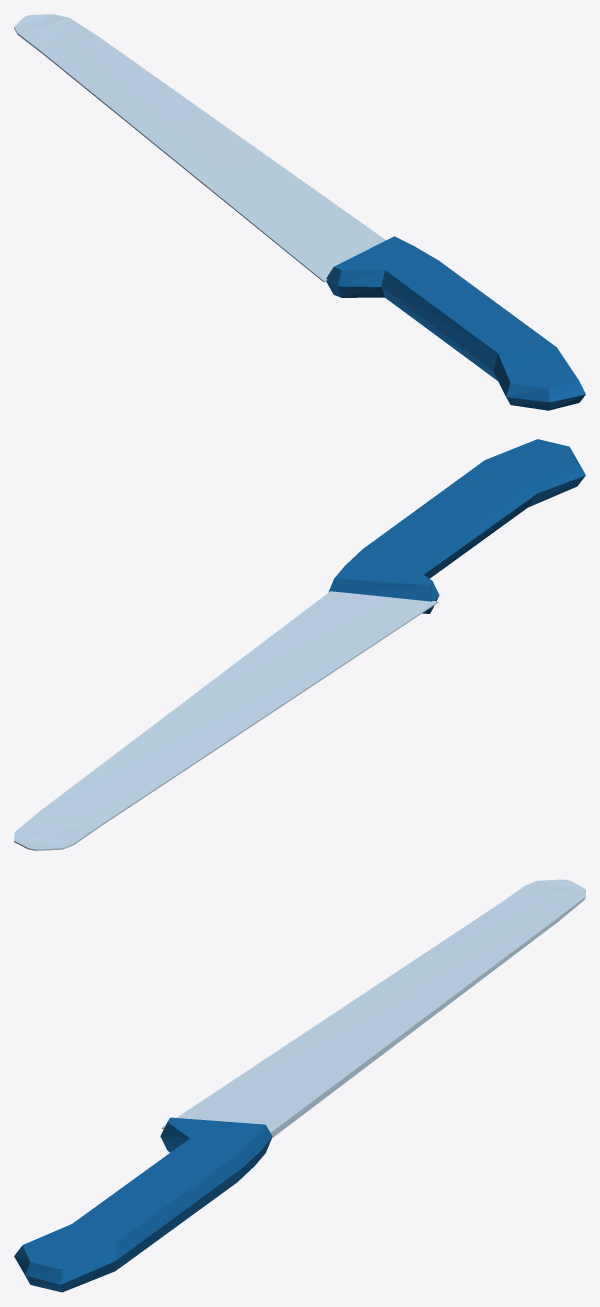
Rendered from knife.glb.
3 views of the same model, one above another, from view 1: azimuth 30°, elevation 25°; view 2: azimuth 150°, elevation 25°; view 3: azimuth 330°, elevation 25° (orthographic). The views are drawn at different scales.
Visible parts, largest first — view 1: slicer, handle; view 2: slicer, handle; view 3: slicer, handle.
Part boxes in pixels (box(x1,y1,x2,y2)): slicer: box(14, 14, 385, 282); handle: box(326, 236, 585, 410); slicer: box(14, 591, 438, 850); handle: box(328, 439, 585, 613); slicer: box(161, 879, 585, 1137); handle: box(14, 1117, 272, 1292).
Bounding box in the file's own units: 0.0458 × 0.0124 × 0.425.
